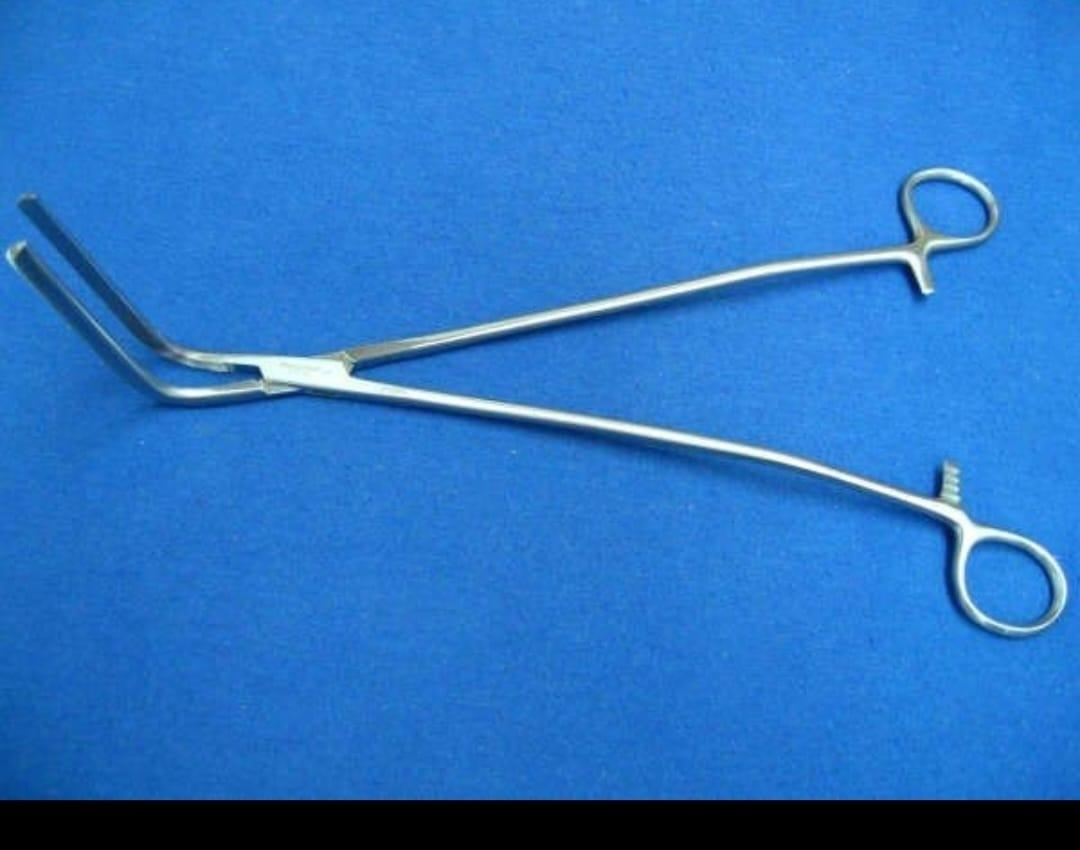Surgical blade: (9, 168, 1071, 654)
